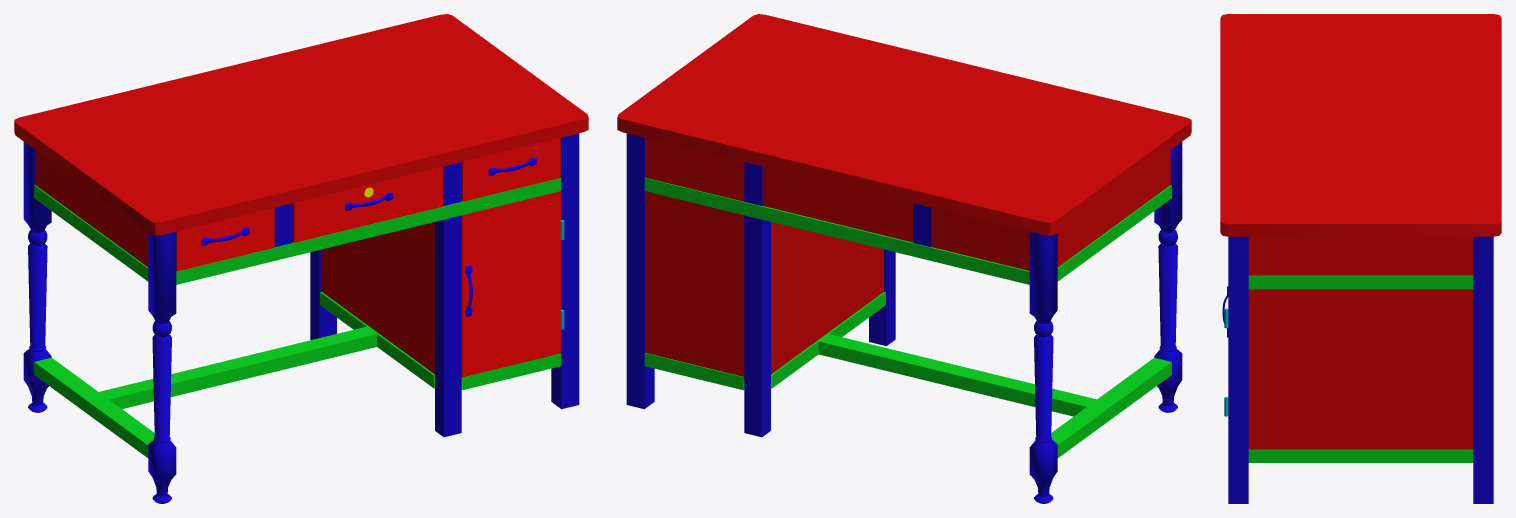
File: grandpa_desk.FBX
3 renders of one model, left to right at view 1: azimuth 30°, elevation 25°; view 2: azimuth 150°, elevation 25°; view 3: azimuth 270°, elevation 25°, orthographic.
Parts seen in each view (by area): view 1: table_wood, desk_closet, drawer_01, drawer_03, drawer_02; view 2: table_wood; view 3: table_wood.
Part boxes in pixels (x1,y1,x2,y2): table_wood: (14, 14, 588, 503); desk_closet: (461, 191, 561, 377); drawer_01: (292, 166, 443, 242); drawer_03: (461, 138, 560, 201); drawer_02: (176, 207, 274, 271); table_wood: (617, 14, 1191, 503); table_wood: (1220, 14, 1501, 503).
Bounding box in the file's own units: 1.24 × 0.7 × 0.78.
